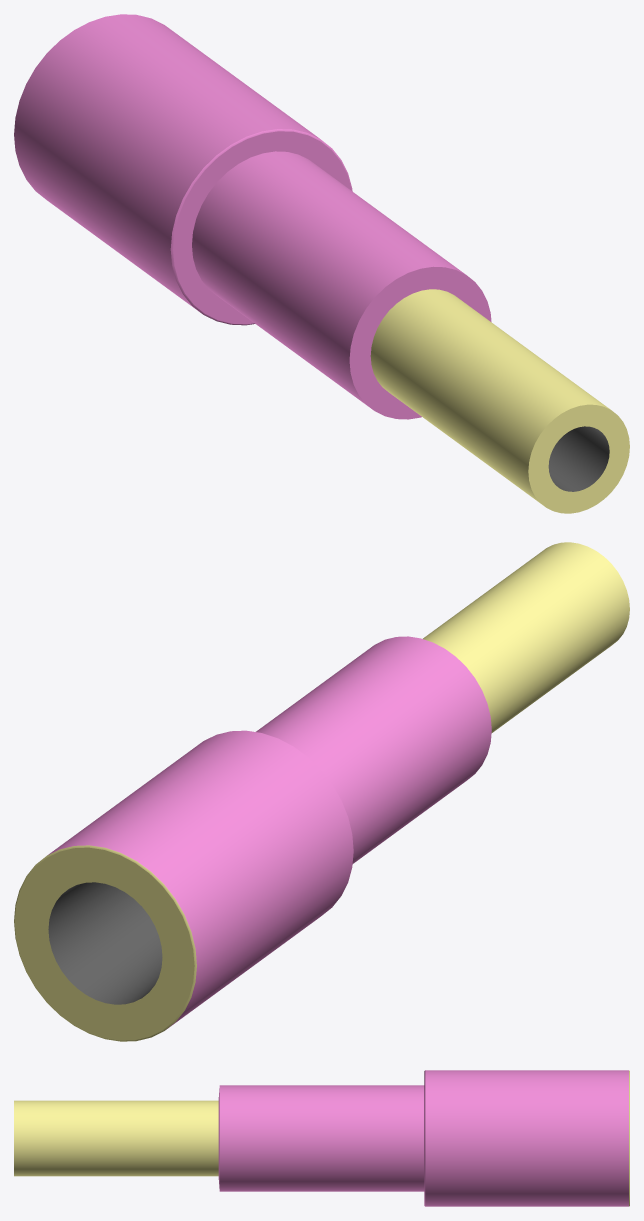
File: periscope_edit.fbx
3 renders of one model, top to bottom at view 1: azimuth 30°, elevation 25°; view 2: azimuth 150°, elevation 25°; view 3: azimuth 270°, elevation 25°, orthographic. The views are drawn at different scales.
Visible parts, largest first — view 1: Periscope; view 2: Periscope; view 3: Periscope.
Boxes of the visible parts, <box> form: Periscope: <box>14,14,629,513</box>; Periscope: <box>14,542,629,1041</box>; Periscope: <box>14,1070,629,1206</box>.
Size of the model in its own units: 120 by 120 by 539.
